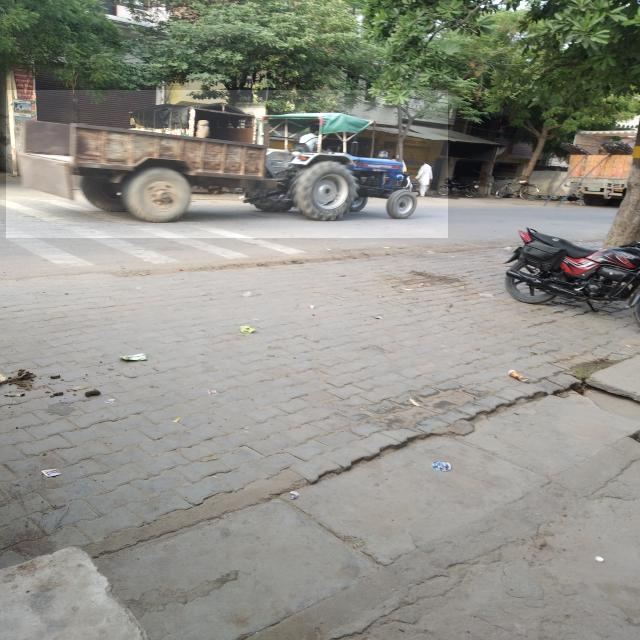Tractot: (6, 90, 448, 238)
